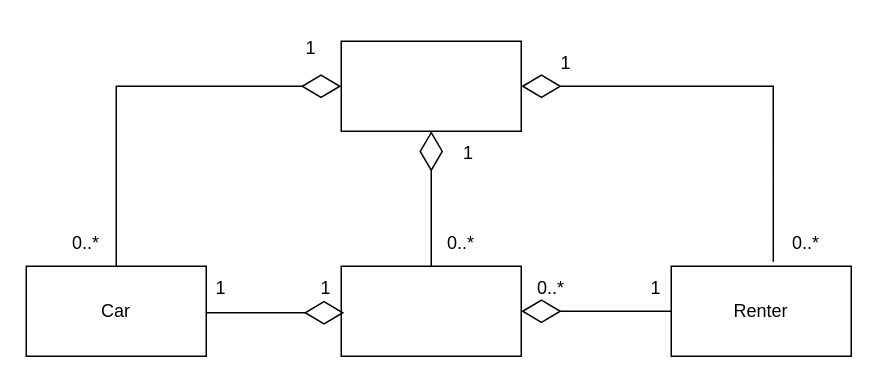
Some shapes in this 878 by 383 pixel diagram are drawn without their labels. The shapes that lost their labels are listed below. From the top down, each one's box as (x1, y1, x2, y2) in pixels, then its label:
(340, 40, 521, 131): Car Rental Company
(340, 265, 521, 356): Rental
